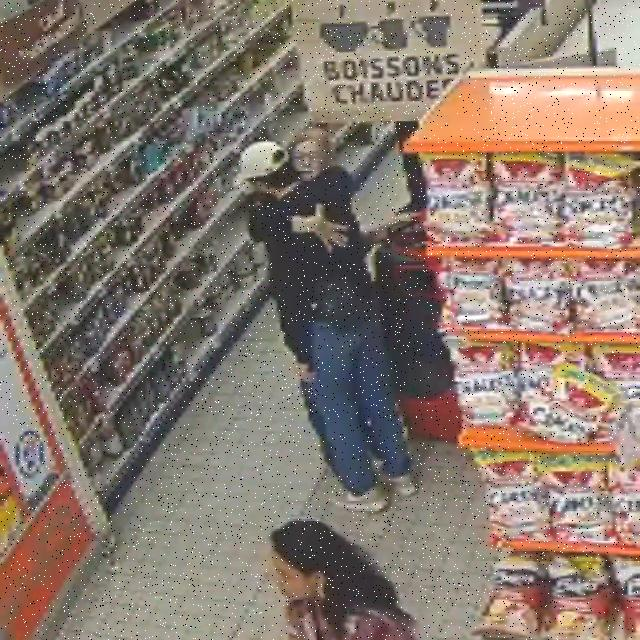hands: (314, 205, 348, 252), (294, 363, 315, 382)
person: (241, 148, 415, 512), (271, 518, 414, 639), (291, 129, 335, 179)
